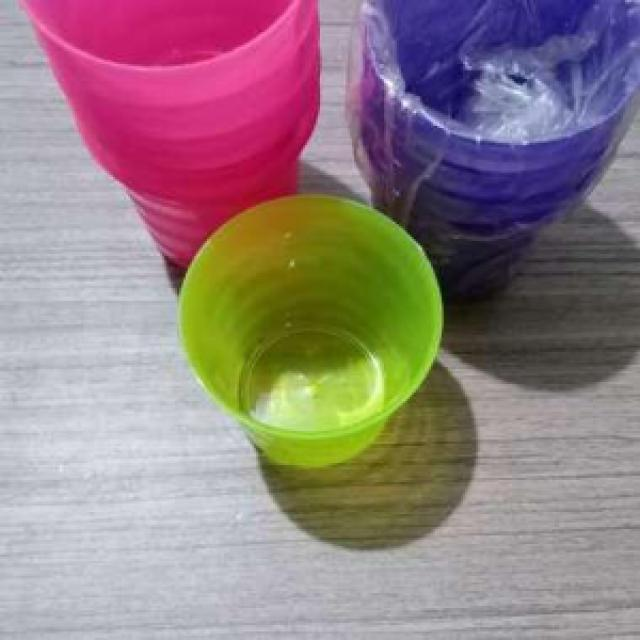plastic cup: (341, 2, 640, 316), (13, 2, 335, 282), (169, 188, 448, 480)
